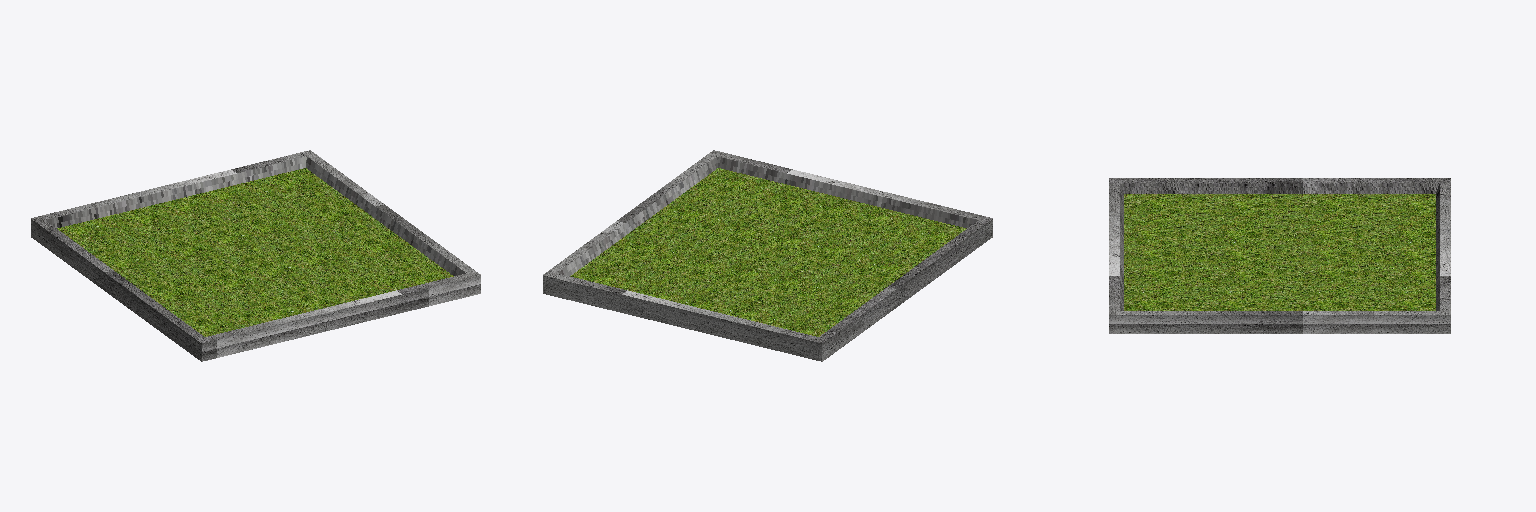
The picture shows the model from 3 angles: view 1: azimuth 30°, elevation 25°; view 2: azimuth 150°, elevation 25°; view 3: azimuth 270°, elevation 25°; orthographic projection.
Visible parts, largest first — view 1: Plane, Cube; view 2: Plane, Cube; view 3: Plane, Cube.
Boxes of the visible parts, x1,y1,x2,y2 form: Plane: [57, 168, 453, 336]; Cube: [31, 150, 480, 361]; Plane: [570, 168, 966, 336]; Cube: [543, 150, 992, 361]; Plane: [1124, 194, 1435, 310]; Cube: [1109, 178, 1450, 333].
Bounding box in the file's own units: 7.94 × 0.5 × 8.4.
2 materials, 2 textured.